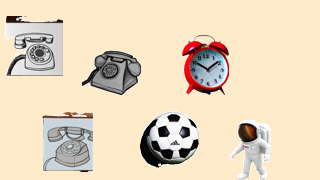宇航员: (227, 116, 274, 178)
电话: (2, 13, 63, 76), (39, 108, 94, 174), (79, 46, 141, 96)
足球: (136, 107, 201, 171)
闹钟: (177, 30, 231, 99)
